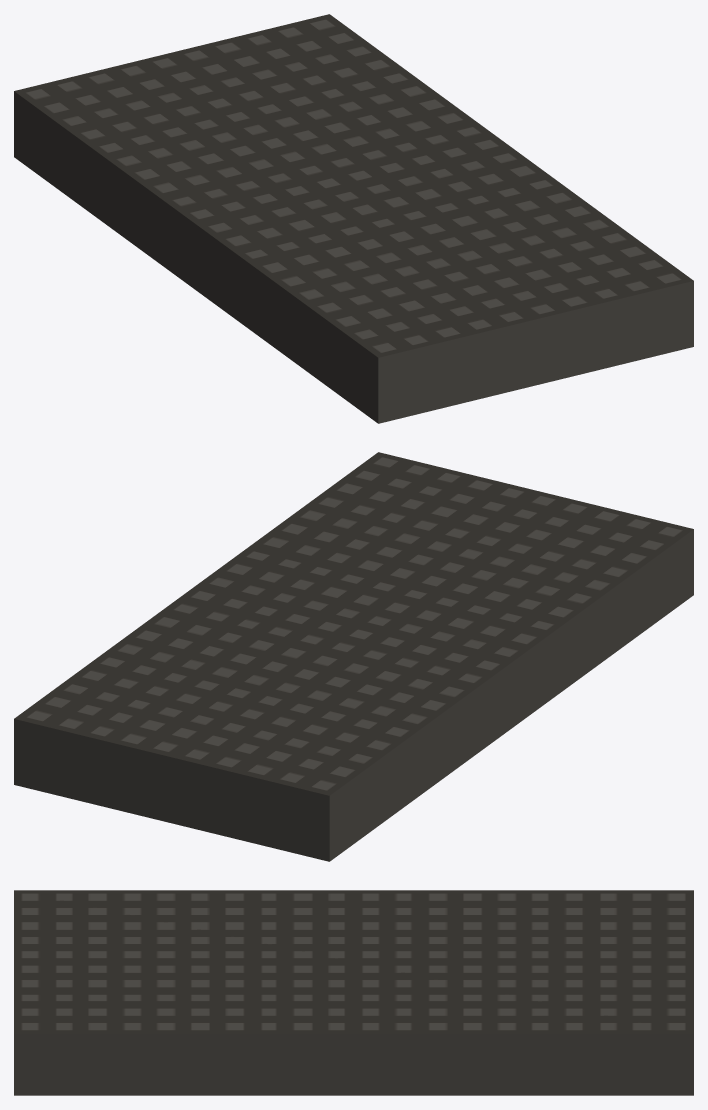
File: Corridor-floor5.glb
The picture shows the model from 3 angles, top to bottom: view 1: azimuth 30°, elevation 25°; view 2: azimuth 150°, elevation 25°; view 3: azimuth 270°, elevation 25°; orthographic projection. The views are drawn at different scales.
Parts seen in each view (by area): view 1: Cube; view 2: Cube; view 3: Cube.
Part boxes in pixels (x1=…): Cube: x1=14, y1=14, x2=693, y2=423; Cube: x1=14, y1=452, x2=693, y2=861; Cube: x1=14, y1=890, x2=693, y2=1095.
Bounding box in the file's own units: 1 × 0.2 × 2.
Materials: 1 (1 with a texture image).
